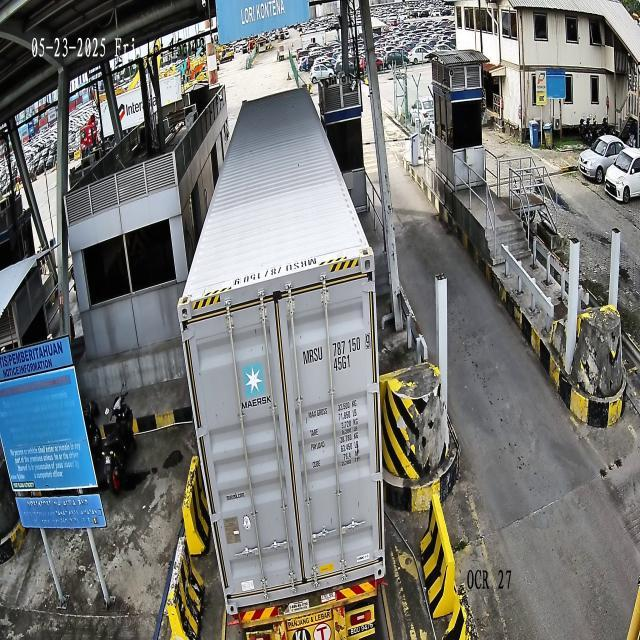ISO: (332, 354, 350, 372)
container_number: (302, 333, 370, 365)
